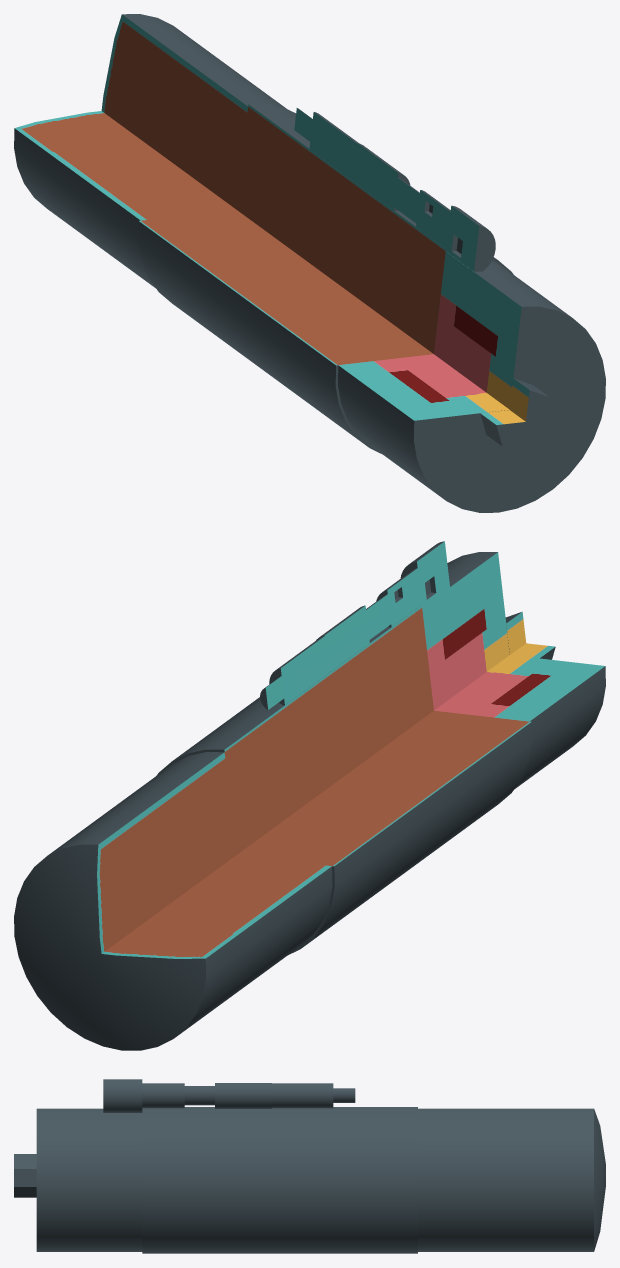
The model's file is ЗУР-РО-ПАД_Р.fbx.
3 renders of one model, top to bottom at view 1: azimuth 30°, elevation 25°; view 2: azimuth 150°, elevation 25°; view 3: azimuth 270°, elevation 25°, orthographic. The views are drawn at different scales.
Visible parts, largest first — view 1: ЗУР-РО-ПАД_Р; view 2: ЗУР-РО-ПАД_Р; view 3: ЗУР-РО-ПАД_Р.
Part boxes in pixels (bbox=[...]): ЗУР-РО-ПАД_Р: bbox=[14, 14, 605, 512]; ЗУР-РО-ПАД_Р: bbox=[14, 541, 605, 1050]; ЗУР-РО-ПАД_Р: bbox=[14, 1079, 605, 1253].
Size of the model in its own units: 27.82 by 33.46 by 104.
1 material, 1 textured.
